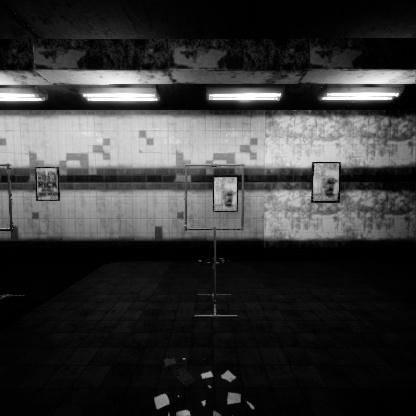gate: (185, 185, 250, 252)
